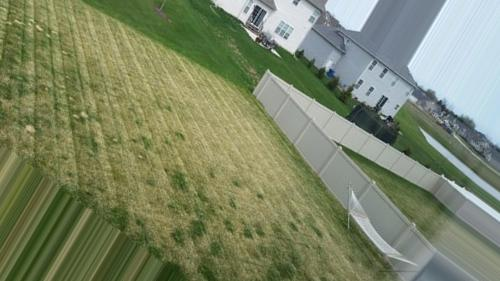patch: (16, 22, 94, 150), (110, 41, 161, 213), (174, 81, 216, 258), (237, 123, 267, 268), (278, 175, 308, 274)
